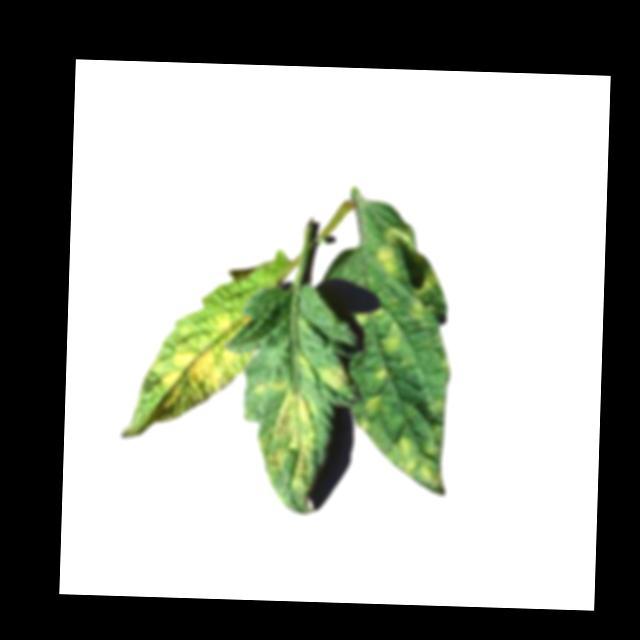Leaf_Mold: (158, 309, 253, 426), (249, 379, 319, 491), (387, 437, 452, 492), (378, 222, 421, 277), (410, 272, 442, 321), (318, 360, 351, 393), (358, 391, 383, 433), (380, 324, 407, 357)
